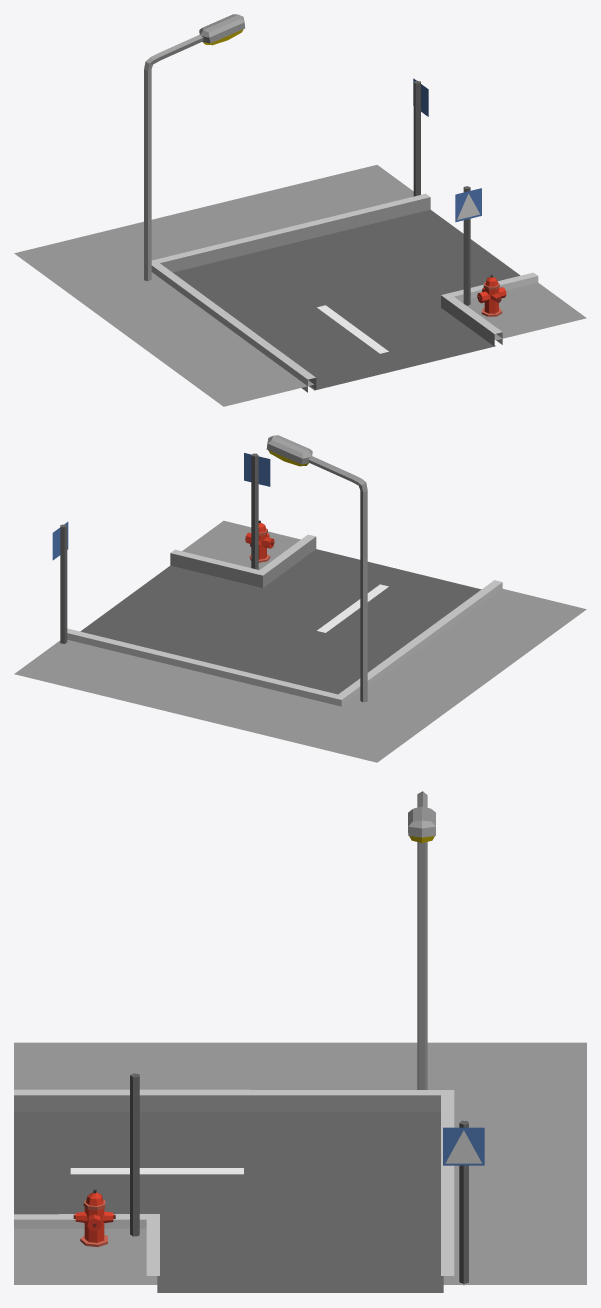
File: Road_Tile_4.fbx
3 renders of one model, top to bottom at view 1: azimuth 30°, elevation 25°; view 2: azimuth 150°, elevation 25°; view 3: azimuth 270°, elevation 25°, orthographic. The views are drawn at different scales.
Parts seen in each view (by area): view 1: Road_4, Light_4, Sign_4_1, Sign_4_2, Hydrant_4; view 2: Road_4, Light_4, Sign_4_1, Sign_4_2, Hydrant_4; view 3: Road_4, Light_4, Sign_4_2, Sign_4_1, Hydrant_4.
Boxes of the visible parts, bbox=[...] form: Road_4: bbox=[14, 165, 586, 406]; Light_4: bbox=[144, 14, 245, 281]; Sign_4_1: bbox=[455, 186, 481, 305]; Sign_4_2: bbox=[413, 78, 428, 196]; Hydrant_4: bbox=[477, 274, 506, 316]; Road_4: bbox=[14, 520, 586, 762]; Light_4: bbox=[266, 435, 367, 702]; Sign_4_1: bbox=[244, 453, 270, 569]; Sign_4_2: bbox=[52, 522, 68, 643]; Hydrant_4: bbox=[245, 520, 274, 562]; Road_4: bbox=[14, 1042, 586, 1292]; Light_4: bbox=[408, 791, 435, 1089]; Sign_4_2: bbox=[443, 1120, 484, 1285]; Sign_4_1: bbox=[130, 1073, 139, 1236]; Hydrant_4: bbox=[73, 1189, 115, 1246].
Bounding box in the file's own units: 4 × 2.62 × 4.
